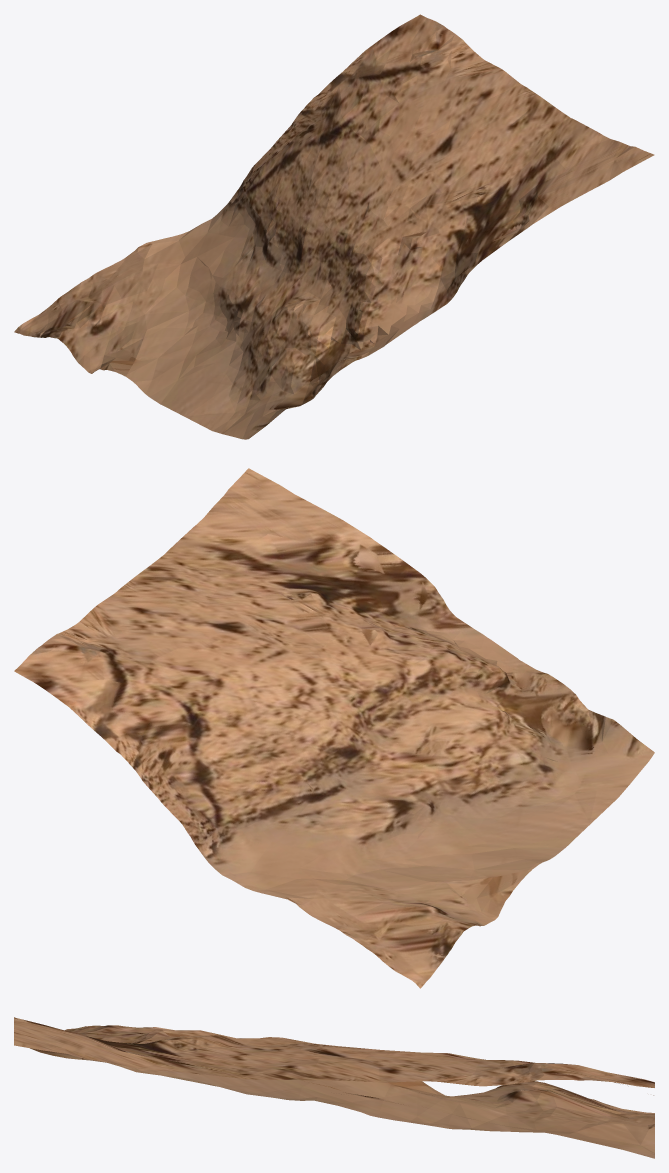
3 renders of one model, top to bottom at view 1: azimuth 30°, elevation 25°; view 2: azimuth 150°, elevation 25°; view 3: azimuth 270°, elevation 25°, orthographic. The views are drawn at different scales.
Size of the model in its own units: 2.09 by 1.23 by 2.09.
3 materials, 3 textured.
